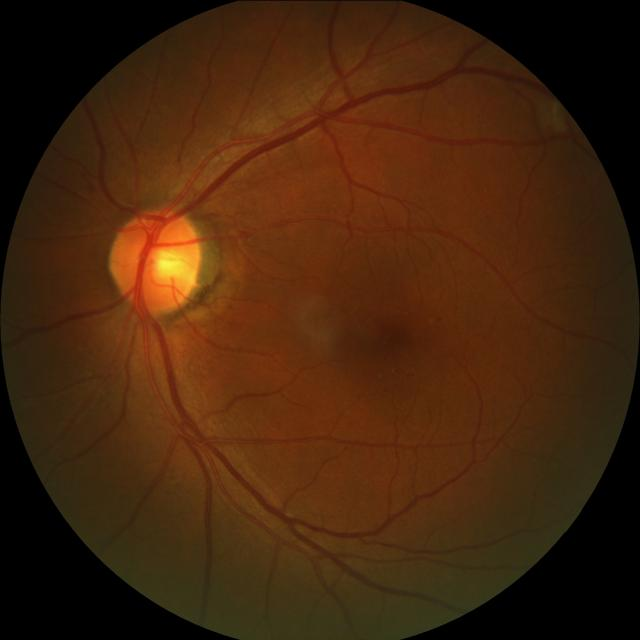OC: (139, 238, 181, 283)
OD: (109, 206, 201, 311)
